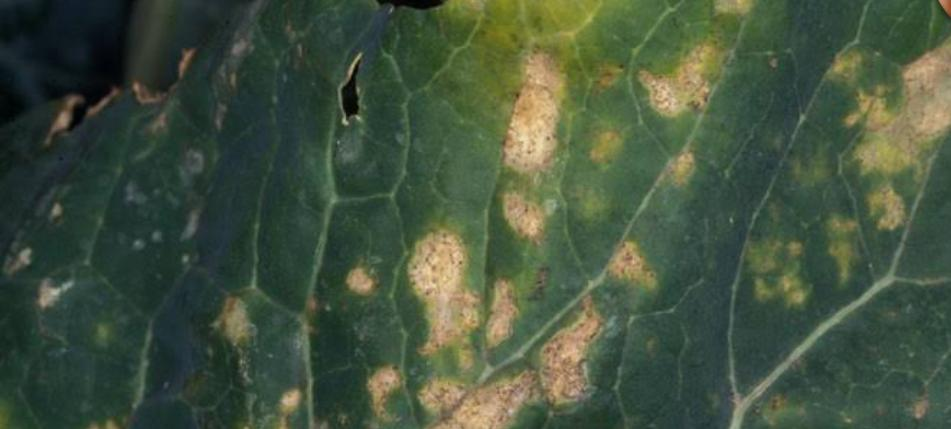Bok-Choy-Diseased: (0, 18, 951, 429)
